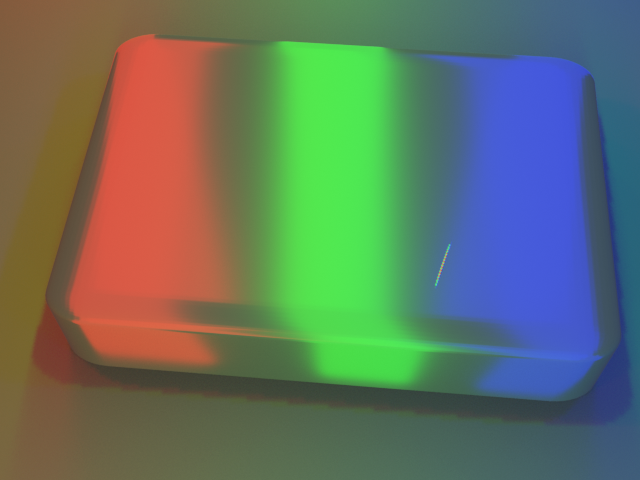scratch: (357, 208, 558, 330)
